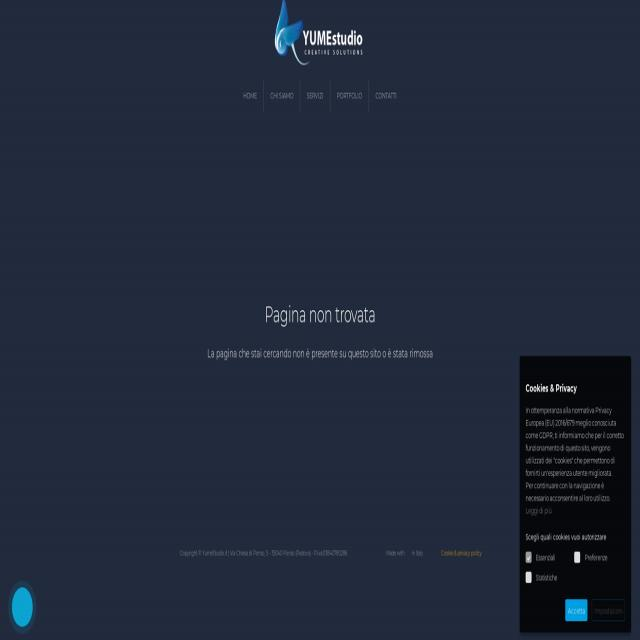button: (274, 0, 365, 66), (330, 80, 369, 113), (10, 584, 36, 632), (264, 80, 300, 113), (369, 80, 403, 113), (300, 80, 330, 113), (236, 80, 264, 113), (565, 598, 587, 620)
field: (572, 551, 608, 565), (525, 550, 556, 566), (525, 571, 557, 585)
